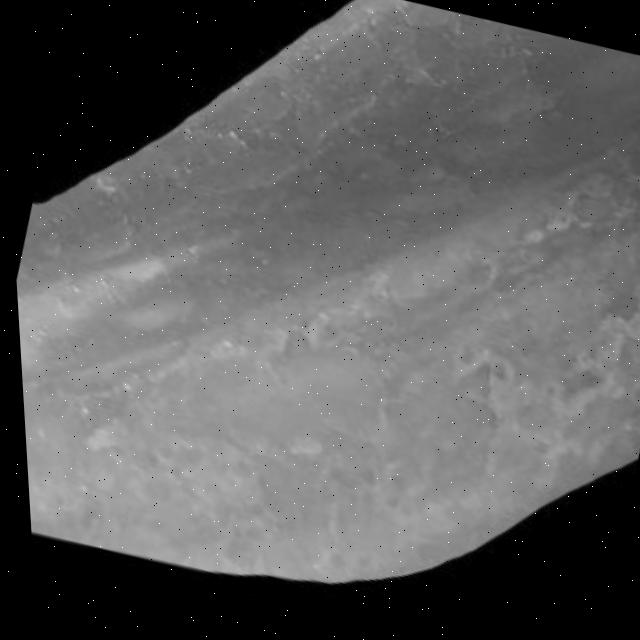spots: (13, 0, 640, 632)
